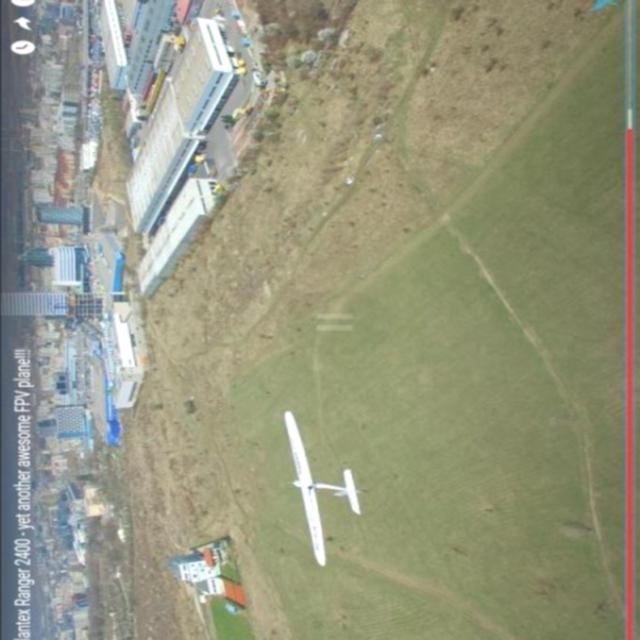plane: (280, 408, 366, 566)
